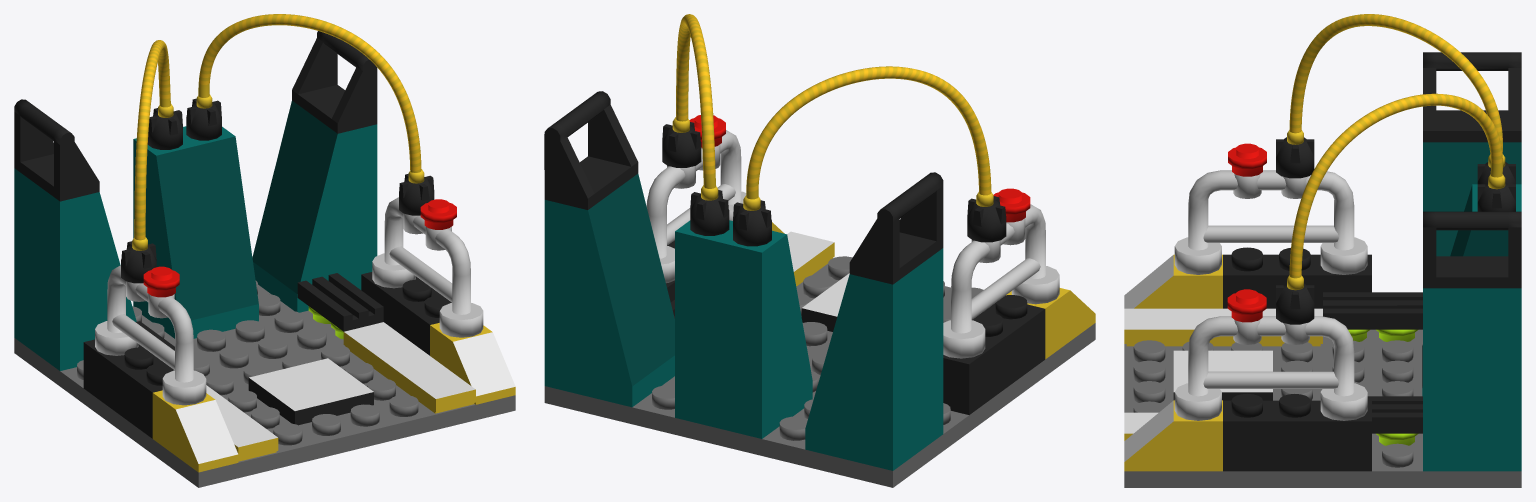
File: TeleportPad.fbx
The picture shows the model from 3 angles, left to right: view 1: azimuth 30°, elevation 25°; view 2: azimuth 150°, elevation 25°; view 3: azimuth 270°, elevation 25°; orthographic projection. The views are drawn at different scales.
Parts seen in each view (by area): view 1: 2_TeleportPad_Back, 0_TeleportPad_Base, 3_TeleportPad_RightBrace, 1_TeleportPad_LeftBrace, 4_TeleportPad_Pipes; view 2: 2_TeleportPad_Back, 3_TeleportPad_RightBrace, 0_TeleportPad_Base, 4_TeleportPad_Pipes, 1_TeleportPad_LeftBrace; view 3: 2_TeleportPad_Back, 0_TeleportPad_Base, 1_TeleportPad_LeftBrace, 3_TeleportPad_RightBrace, 4_TeleportPad_Pipes.
Boxes of the visible parts, x1,y1,x2,y2 form: 2_TeleportPad_Back: (14, 31, 377, 370); 0_TeleportPad_Base: (14, 273, 515, 487); 3_TeleportPad_RightBrace: (83, 265, 238, 472); 1_TeleportPad_LeftBrace: (361, 197, 515, 404); 4_TeleportPad_Pipes: (121, 14, 434, 283); 2_TeleportPad_Back: (544, 91, 943, 470); 3_TeleportPad_RightBrace: (943, 188, 1095, 414); 0_TeleportPad_Base: (544, 231, 1095, 487); 4_TeleportPad_Pipes: (662, 14, 1006, 246); 1_TeleportPad_LeftBrace: (646, 115, 784, 302); 2_TeleportPad_Back: (1422, 52, 1521, 471); 0_TeleportPad_Base: (1124, 292, 1521, 487); 1_TeleportPad_LeftBrace: (1124, 289, 1371, 471); 3_TeleportPad_RightBrace: (1124, 143, 1371, 308); 4_TeleportPad_Pipes: (1276, 14, 1515, 324).
Size of the model in its own units: 51.84 by 49.94 by 52.14.
